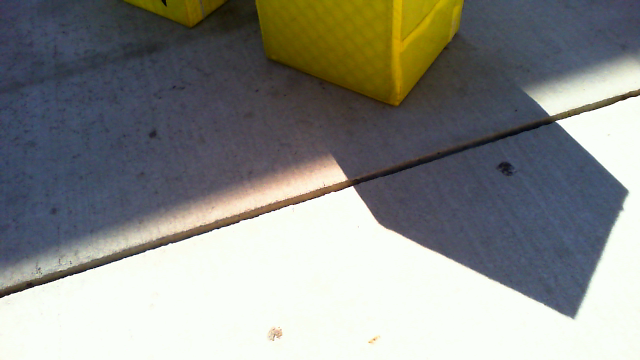cube: (253, 1, 467, 107)
